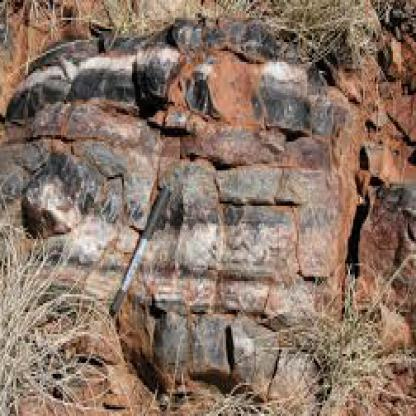Metamorphic_Quartize: (20, 31, 147, 113), (150, 170, 215, 323), (200, 46, 274, 133)
